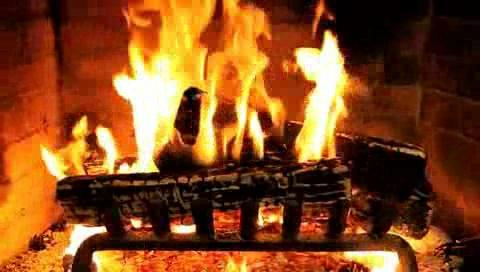fire: (29, 0, 480, 252)
